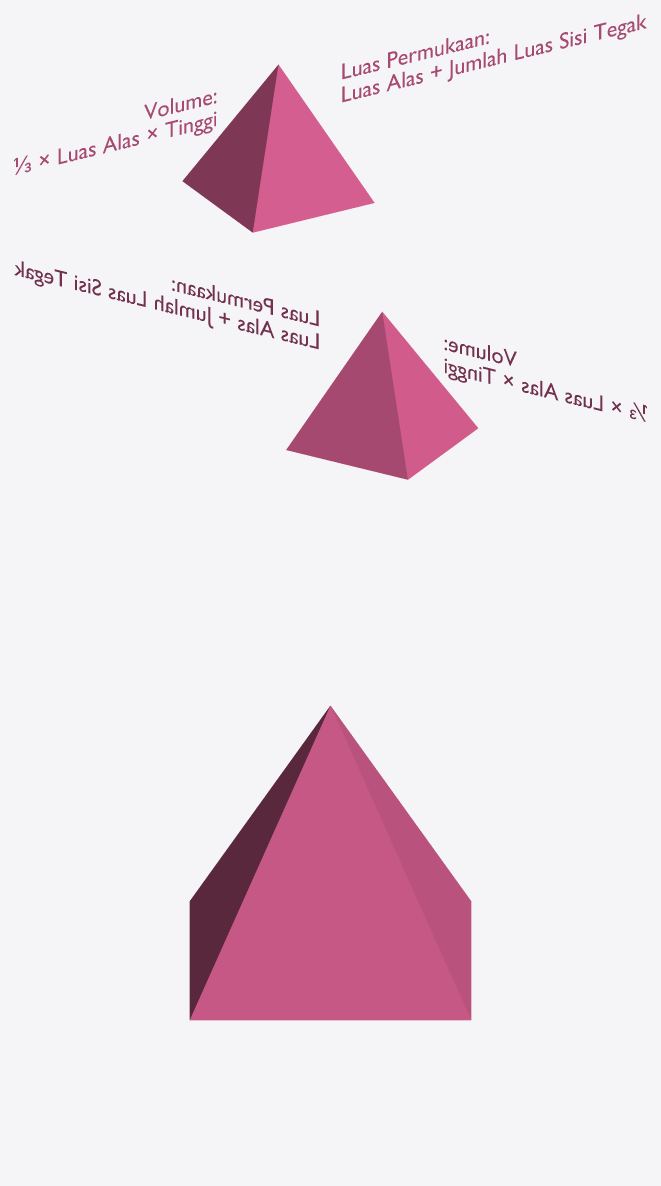
File: limas.glb
3 renders of one model, top to bottom at view 1: azimuth 30°, elevation 25°; view 2: azimuth 150°, elevation 25°; view 3: azimuth 270°, elevation 25°, orthographic. The views are drawn at different scales.
Parts seen in each view (by area): view 1: world.002, Text.001, Text; view 2: world.002, Text.001, Text; view 3: world.002.
Part boxes in pixels (left/top/right/bottom): world.002: left=182, top=64, right=374, bottom=232; Text.001: left=342, top=14, right=646, bottom=102; Text: left=14, top=92, right=216, bottom=174; world.002: left=286, top=311, right=477, bottom=479; Text.001: left=14, top=261, right=318, bottom=349; Text: left=444, top=339, right=646, bottom=421; world.002: left=189, top=705, right=471, bottom=1020.
Bounding box in the file's own units: 5.19 × 1 × 1.
